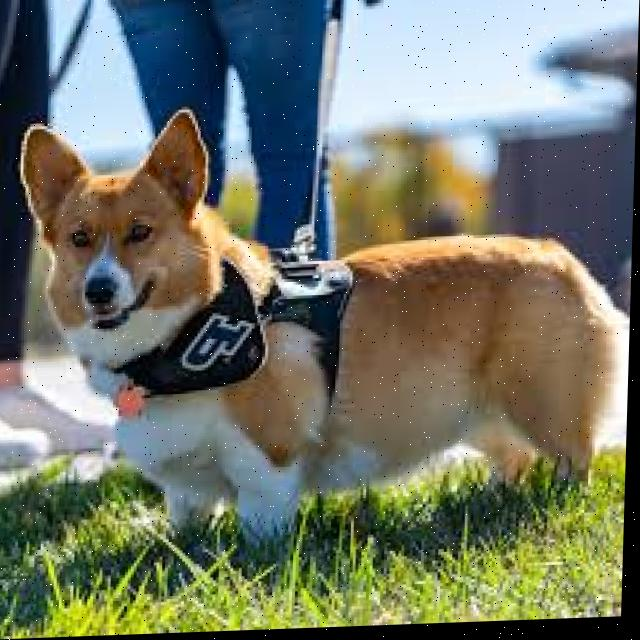CORGI: (6, 106, 637, 573)
